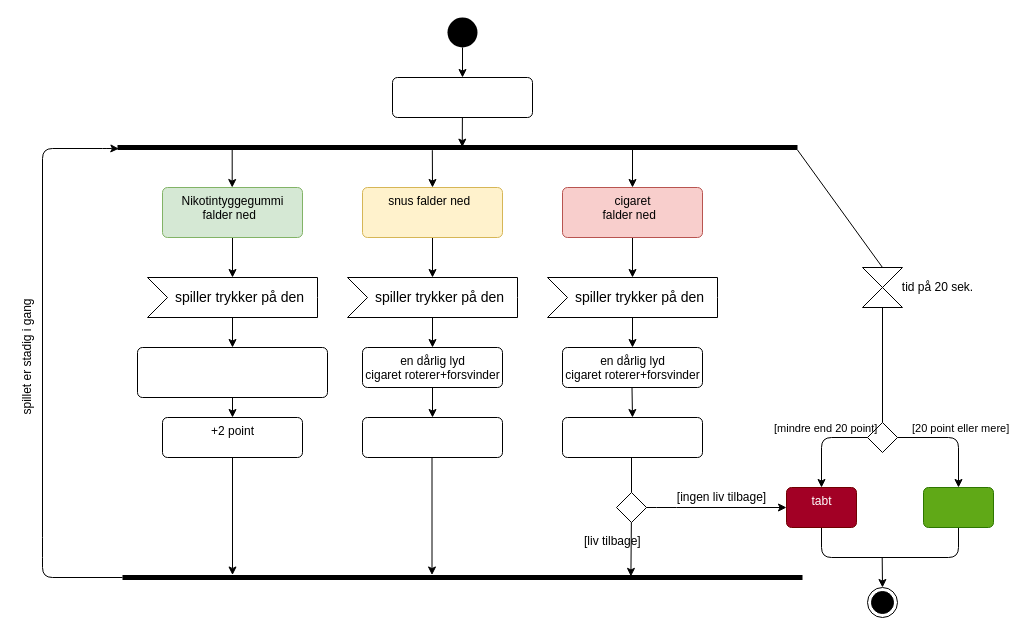
Some shapes in this 1026 by 635 pixel diagram are drawn without their labels. The shapes that lost their labels are listed below. From the top down, each one's centre as x and y in pixels, then its label:
point 462,97: Guitar musik afspilles Baggrundsbillede vises
point 232,372: en god lyd tyggegummi popper+forsvinder
point 432,437: -1 point
point 632,437: mister et liv
point 958,507: vundet
